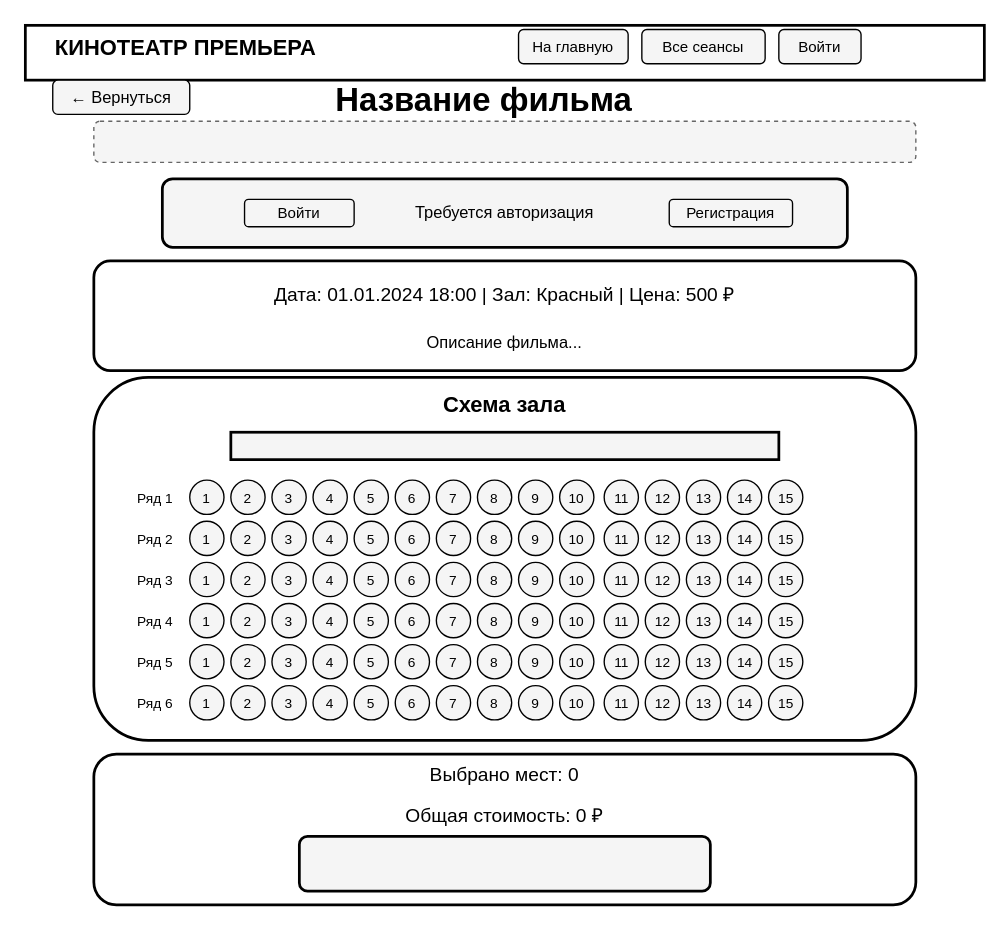
Image size: 1008x929. Some labels were removed from this diagram. The centre of each missing label's shape, as x and y in pixels:
Забронировать билеты: [504,863]
Сообщения системы: [504,141]
ЭКРАН: [504,445]
